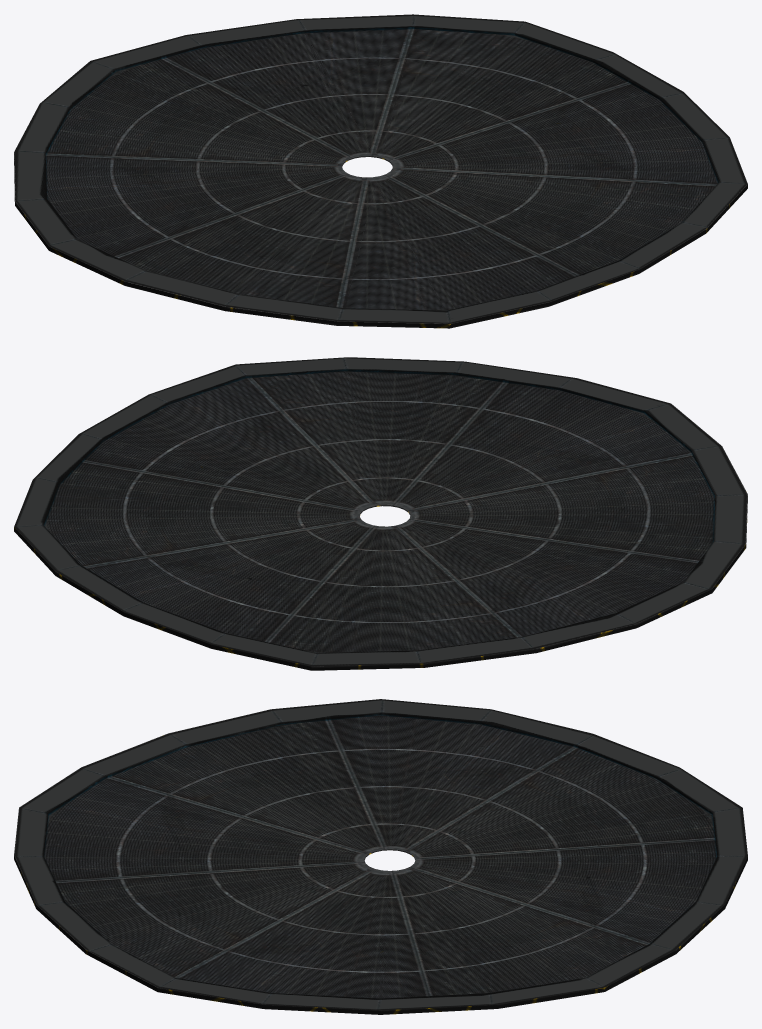
The model's file is HolodeckAnimated.FBX.
The picture shows the model from 3 angles, top to bottom: view 1: azimuth 30°, elevation 25°; view 2: azimuth 150°, elevation 25°; view 3: azimuth 270°, elevation 25°; orthographic projection.
Parts seen in each view (by area): view 1: Suelo_HANGAR; view 2: Suelo_HANGAR; view 3: Suelo_HANGAR.
Part boxes in pixels (x1,y1,x2,y2): Suelo_HANGAR: [14, 14, 747, 328]; Suelo_HANGAR: [14, 357, 747, 670]; Suelo_HANGAR: [14, 699, 747, 1014].
Bounding box in the file's own units: 85.3 × 0.5592 × 84.93.
1 material, 1 textured.
